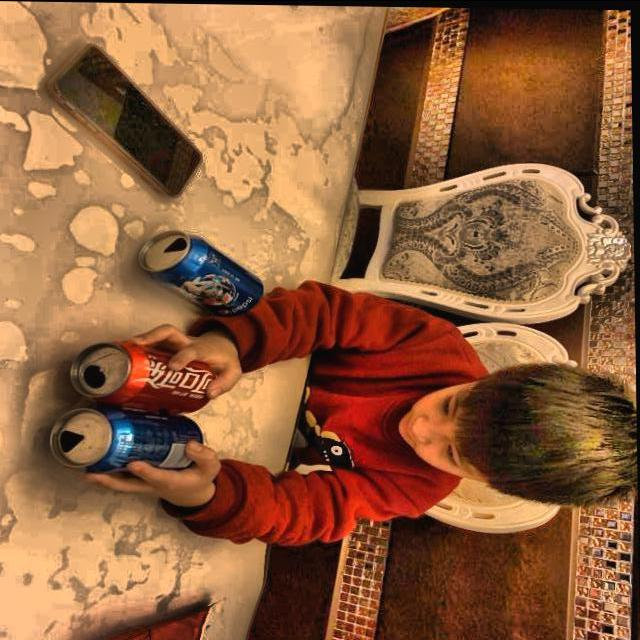litter: (64, 334, 230, 420), (41, 402, 210, 483), (137, 222, 268, 322)
